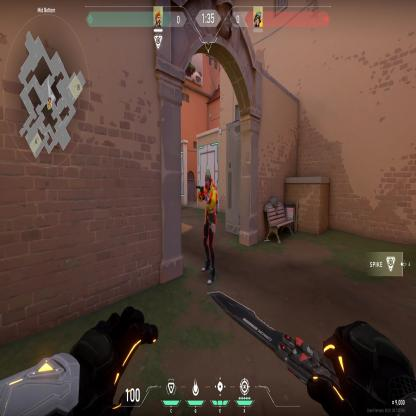enemy: (196, 166, 219, 286)
